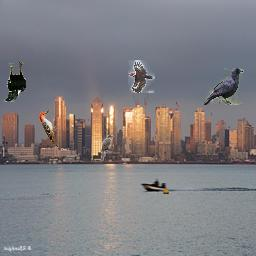Crow: (204, 68, 244, 105), (4, 62, 26, 102)
Cuckoo: (101, 135, 114, 161)
Woodpecker: (128, 60, 155, 93), (39, 110, 59, 150)
